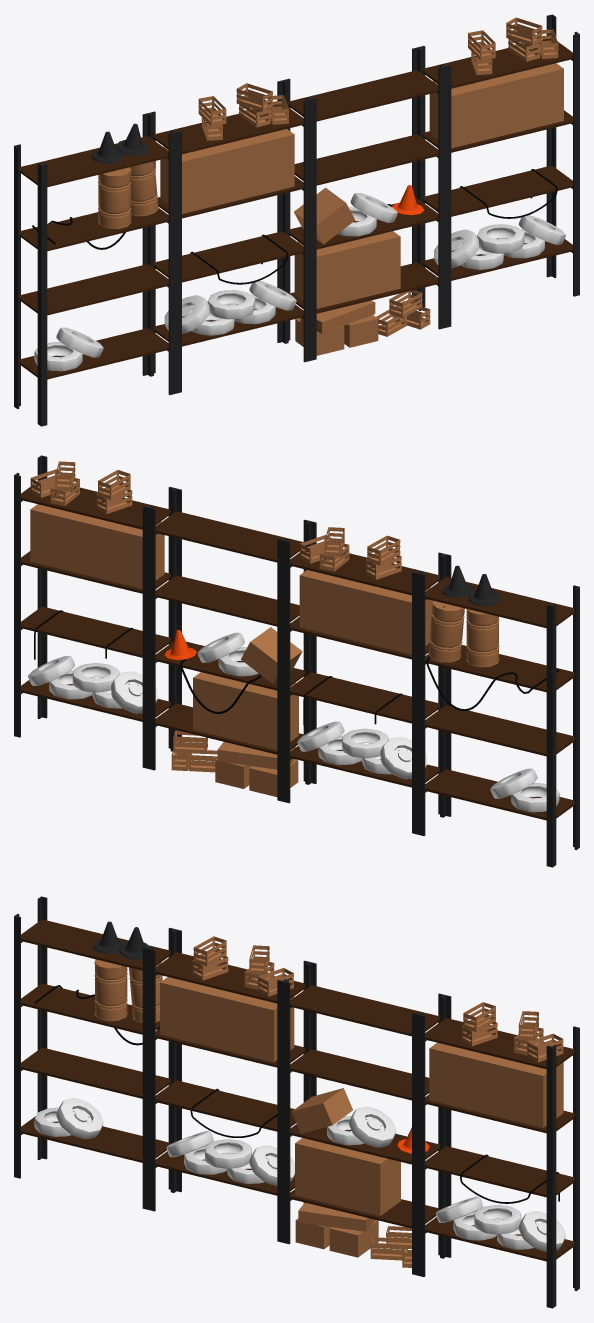
File: FilaEstanterias.fbx
3 views of the same model, one above another, from view 1: azimuth 30°, elevation 25°; view 2: azimuth 150°, elevation 25°; view 3: azimuth 330°, elevation 25° (orthographic).
Visible parts, largest first — view 1: MaderaEstanteria_070, MaderaEstanteria_073, PaloEstanteria_069, MaderaEstanteria_072, MaderaEstanteria_071, CajaGrande_046, CajaGrande_045, PaloEstanteria_072, PaloEstanteria_071, CajaGrande_047, PaloEstanteria_070, PilaCajaCarton_022 (+25 smaller); view 2: MaderaEstanteria_070, MaderaEstanteria_073, PaloEstanteria_069, MaderaEstanteria_072, MaderaEstanteria_071, CajaGrande_046, CajaGrande_045, PaloEstanteria_072, PaloEstanteria_071, CajaGrande_047, PaloEstanteria_070, PilaCajaCarton_022 (+27 smaller); view 3: MaderaEstanteria_070, MaderaEstanteria_073, PaloEstanteria_071, MaderaEstanteria_072, CajaGrande_046, MaderaEstanteria_071, CajaGrande_045, CajaGrande_047, PaloEstanteria_069, PaloEstanteria_070, PaloEstanteria_072, PilaCajaCarton_022 (+27 smaller).
Part boxes in pixels (x1,y1,x2,y2): MaderaEstanteria_070: (19,136,168,379); MaderaEstanteria_073: (288,70,438,313); PaloEstanteria_069: (14,113,175,426); MaderaEstanteria_072: (423,38,572,280); MaderaEstanteria_071: (154,104,303,346); CajaGrande_046: (429,63,563,148); CajaGrande_045: (160,129,294,213); PaloEstanteria_072: (283,47,445,360); PaloEstanteria_071: (418,14,579,327); CajaGrande_047: (294,231,400,308); PaloEstanteria_070: (149,80,310,393); PilaCajaCarton_022: (295,300,378,355); MaderaEstanteria_070: (425,577,574,820); MaderaEstanteria_073: (155,511,305,754); PaloEstanteria_069: (418,554,579,867); MaderaEstanteria_072: (21,478,170,721); MaderaEstanteria_071: (290,544,439,787); CajaGrande_046: (30,504,164,588); CajaGrande_045: (299,570,432,654); PaloEstanteria_072: (148,488,310,801); PaloEstanteria_071: (14,455,175,768); CajaGrande_047: (193,672,298,750); PaloEstanteria_070: (283,521,444,834); PilaCajaCarton_022: (215,742,298,796); MaderaEstanteria_070: (21,919,170,1162); MaderaEstanteria_073: (290,985,439,1228); PaloEstanteria_071: (418,995,579,1308); MaderaEstanteria_072: (425,1018,574,1261); CajaGrande_046: (429,1042,563,1127); MaderaEstanteria_071: (155,952,305,1195); CajaGrande_045: (160,977,294,1062); CajaGrande_047: (295,1138,400,1215); PaloEstanteria_069: (14,896,175,1209); PaloEstanteria_070: (148,929,310,1242); PaloEstanteria_072: (283,962,444,1275); PilaCajaCarton_022: (295,1202,378,1257).
Size of the model in its own units: 758 by 361 by 68.66.
